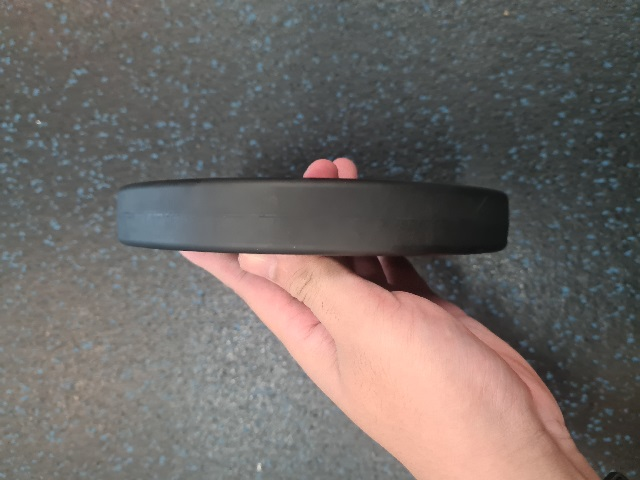weights: (115, 176, 510, 254)
